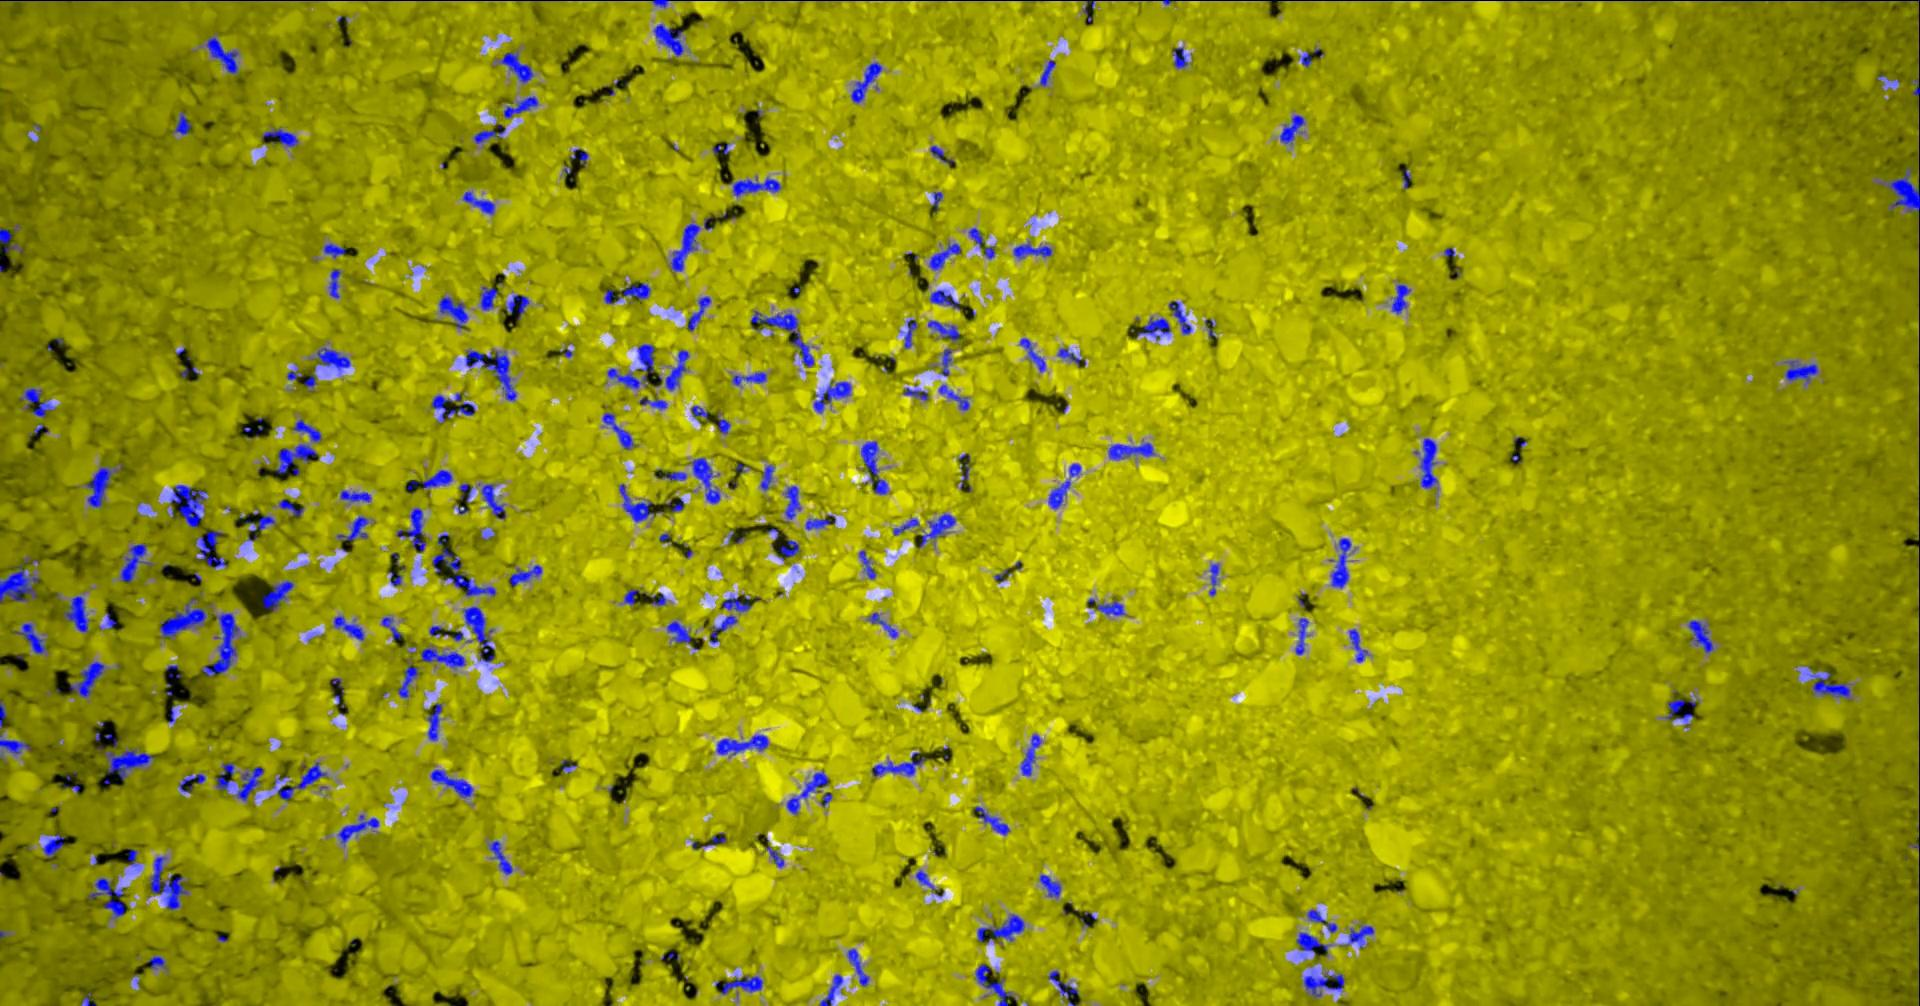ant: (750, 310, 813, 366), (430, 547, 495, 596), (465, 351, 516, 400), (201, 614, 239, 676), (149, 856, 187, 909), (277, 762, 326, 800), (159, 597, 204, 638), (786, 771, 828, 813), (462, 606, 494, 661), (1887, 166, 1919, 218), (103, 748, 152, 780), (0, 563, 39, 602), (975, 963, 1012, 1005), (170, 484, 206, 527), (860, 441, 888, 494), (88, 876, 124, 916), (653, 349, 688, 390), (1048, 464, 1079, 508), (618, 483, 654, 521), (430, 392, 474, 423), (670, 224, 698, 271), (977, 915, 1023, 942), (69, 661, 104, 697), (691, 457, 719, 503), (918, 513, 955, 547), (396, 508, 425, 551), (850, 62, 881, 102), (119, 542, 151, 582), (337, 814, 378, 843), (871, 752, 924, 775), (204, 36, 237, 72), (276, 445, 317, 473), (430, 768, 472, 796), (602, 412, 634, 448), (194, 530, 226, 567), (813, 381, 850, 412), (1810, 669, 1849, 697), (85, 464, 110, 507), (11, 622, 46, 653), (1048, 970, 1078, 1005), (716, 734, 767, 754), (974, 807, 1010, 835), (406, 469, 452, 490), (1330, 539, 1350, 587), (1303, 972, 1343, 996), (653, 23, 683, 55), (500, 52, 532, 83), (262, 580, 293, 611), (438, 296, 467, 329), (235, 766, 263, 800), (730, 177, 780, 196), (1418, 438, 1437, 488), (19, 387, 51, 417), (63, 596, 89, 631), (420, 647, 465, 667), (1018, 338, 1045, 371), (1020, 734, 1041, 775), (481, 483, 505, 518), (968, 227, 996, 258), (1665, 699, 1695, 727), (928, 243, 960, 269), (337, 516, 368, 542), (846, 948, 869, 984), (709, 614, 737, 643), (687, 296, 710, 332), (1688, 620, 1713, 652), (1168, 300, 1191, 334), (489, 840, 512, 874), (938, 384, 968, 410), (333, 615, 363, 640), (721, 976, 762, 995), (503, 97, 538, 118), (316, 347, 349, 370), (1109, 442, 1154, 459), (1279, 114, 1304, 144), (245, 514, 274, 540), (462, 191, 494, 213), (1785, 359, 1817, 382), (1137, 316, 1170, 338), (508, 564, 541, 586), (916, 870, 943, 895), (1305, 909, 1336, 932), (1297, 932, 1327, 955), (819, 974, 842, 1005), (869, 612, 897, 636), (292, 418, 321, 441), (636, 343, 654, 380), (927, 320, 959, 340), (262, 128, 297, 146), (472, 124, 505, 144), (1013, 241, 1051, 258), (1349, 629, 1368, 662), (0, 734, 30, 754), (505, 293, 530, 319), (607, 368, 639, 387), (397, 666, 417, 697), (665, 620, 691, 643), (783, 485, 800, 520), (691, 832, 725, 848), (0, 227, 23, 251), (1349, 925, 1373, 948), (1390, 285, 1410, 312), (427, 702, 441, 741), (381, 616, 403, 640), (42, 833, 63, 857), (1039, 874, 1060, 898), (930, 290, 959, 307), (178, 774, 204, 793), (215, 762, 232, 790), (721, 594, 750, 611), (1295, 617, 1308, 654), (1039, 58, 1055, 86), (1057, 348, 1084, 365), (858, 550, 875, 578), (622, 282, 649, 298), (891, 518, 918, 535), (777, 539, 799, 559), (731, 372, 766, 385), (764, 845, 783, 868), (805, 514, 836, 528), (1096, 600, 1124, 615), (173, 111, 190, 133), (930, 145, 952, 163), (480, 286, 497, 310), (328, 268, 340, 298), (278, 499, 303, 514), (94, 730, 117, 747), (1171, 47, 1187, 69), (903, 319, 916, 347), (759, 464, 773, 489), (902, 387, 928, 400), (340, 490, 370, 502), (323, 243, 345, 257), (690, 405, 709, 422), (1208, 564, 1218, 594), (957, 453, 969, 480), (570, 149, 587, 166), (1910, 77, 1919, 109), (941, 348, 951, 375), (639, 398, 665, 408), (654, 471, 684, 480), (458, 483, 472, 502), (603, 290, 621, 304), (717, 414, 730, 433), (931, 191, 942, 211), (303, 373, 316, 391), (665, 498, 683, 511), (623, 589, 637, 605), (149, 955, 165, 968), (429, 625, 450, 635), (165, 664, 179, 678), (389, 570, 401, 586), (80, 992, 95, 1005), (649, 593, 665, 605), (0, 699, 6, 728), (1401, 168, 1410, 188), (1299, 52, 1310, 67), (127, 848, 136, 866), (712, 144, 728, 154)
